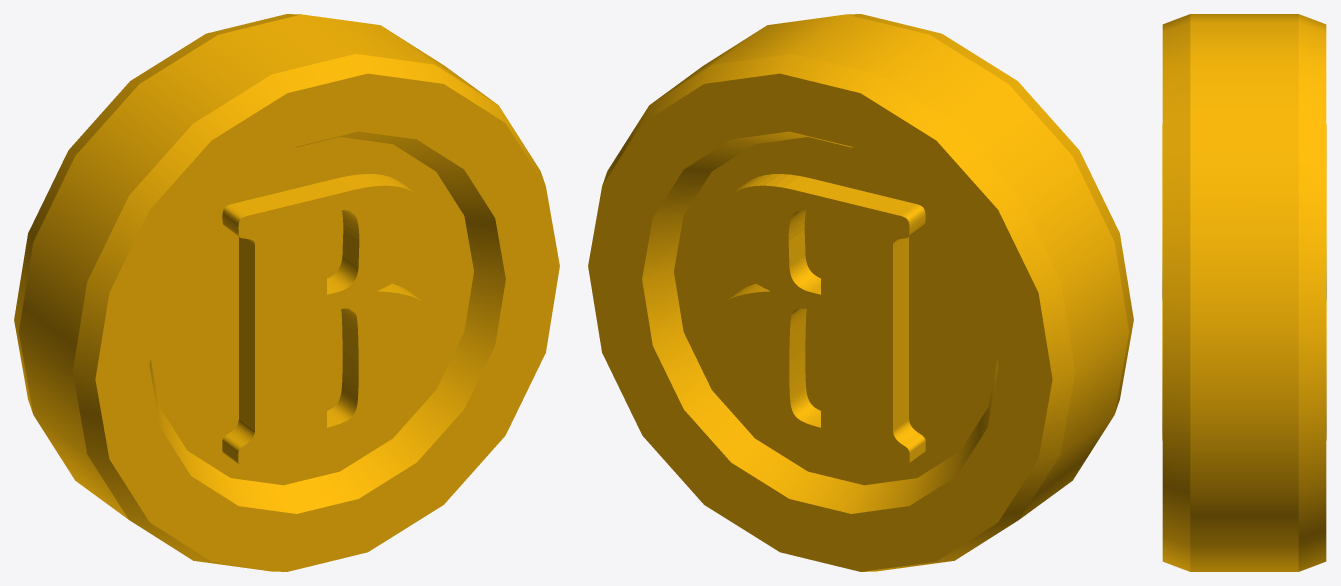
Rendered from coin.FBX.
3 renders of one model, left to right at view 1: azimuth 30°, elevation 25°; view 2: azimuth 150°, elevation 25°; view 3: azimuth 270°, elevation 25°, orthographic.
Parts seen in each view (by area): view 1: Cylinder001; view 2: Cylinder001; view 3: Cylinder001.
Boxes of the visible parts, x1=… form: Cylinder001: x1=14, y1=14, x2=559, y2=571; Cylinder001: x1=588, y1=14, x2=1133, y2=571; Cylinder001: x1=1162, y1=14, x2=1326, y2=571.
Size of the model in its own units: 35.02 by 10.27 by 34.49.
